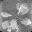people: (16, 4, 29, 16), (20, 18, 32, 26), (11, 19, 19, 30), (1, 11, 12, 18), (2, 20, 10, 29)
